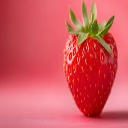strawberry: (62, 11, 119, 117)
